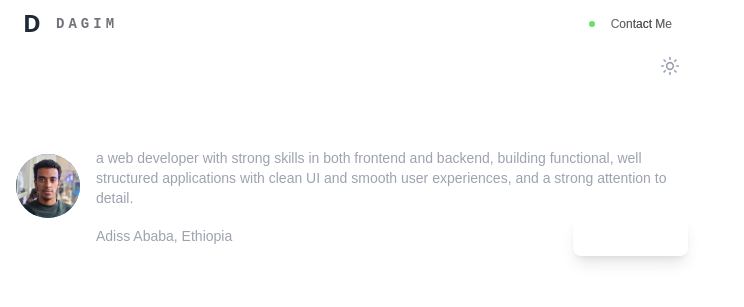
Scenario: Header Component Integration Tests › Contact Badge and Dropdown Toggle › should toggle dropdown when Contact Badge is clicked
The image size is (744, 307).
// Click to open
Click the button with aria-label "Open contact options".
click(638, 24)  # box [589, 12, 688, 36]
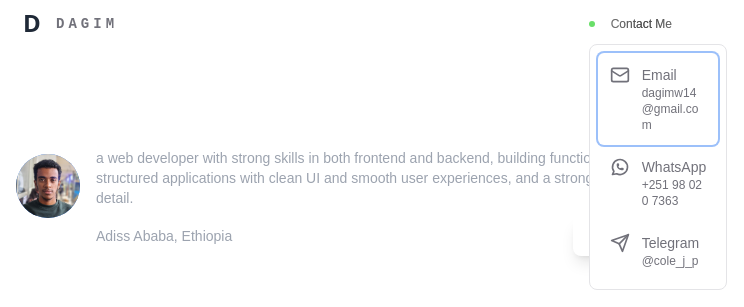
Expected: the menu is shown, [589, 44, 727, 290]
